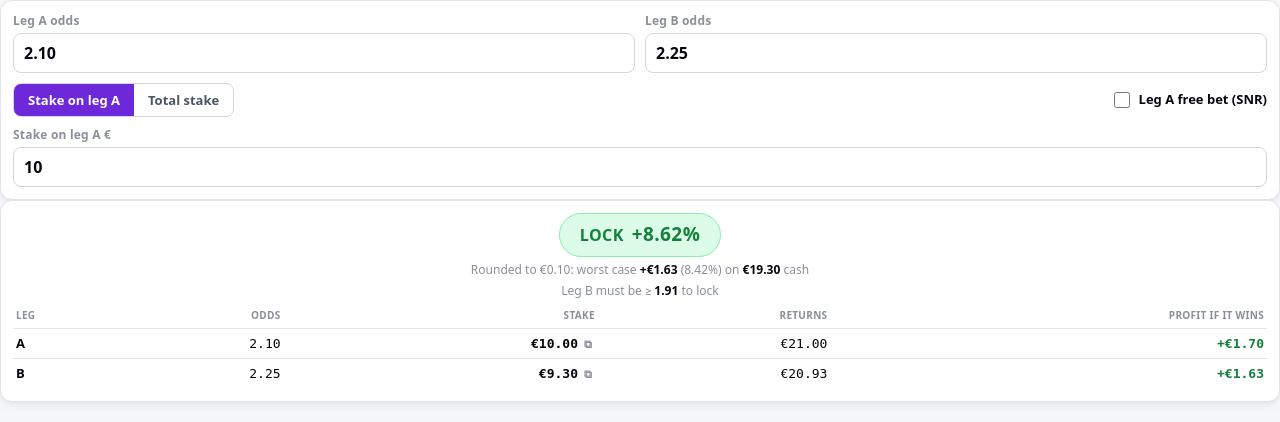
Scenario: DecimalCalc › DEAD when the prices do not lock
Replace the text in the field labelled "Leg B odds" with "1.80" at point(956, 53), box 645,33 -> 1267,73
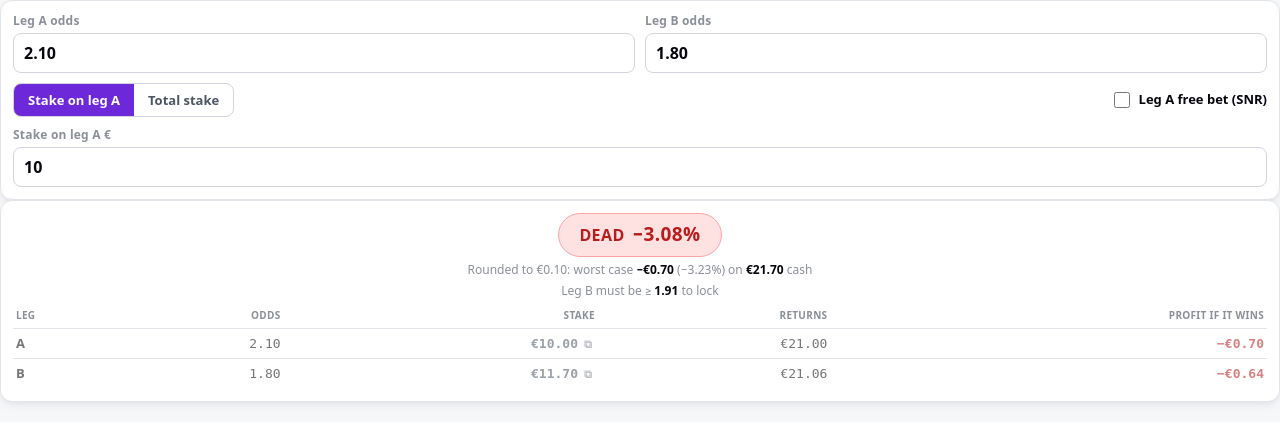
Now the element with test id "decimal-result" shows "DEAD", box 579,224 -> 625,246
